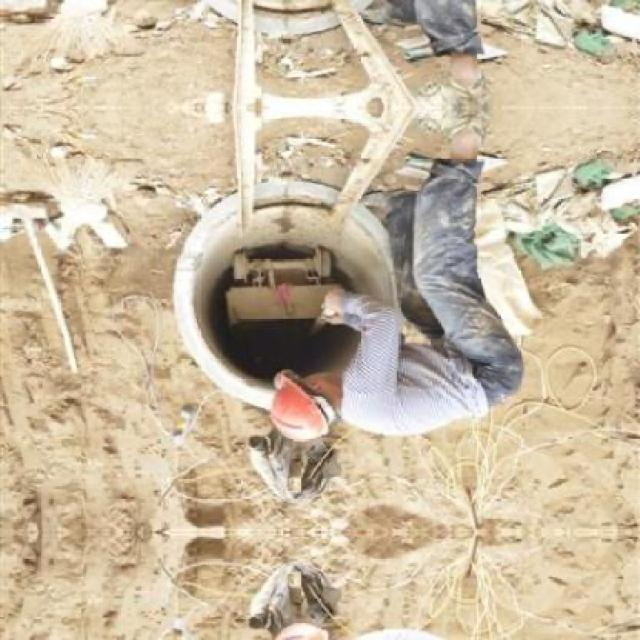con casco: (239, 352, 368, 451)
